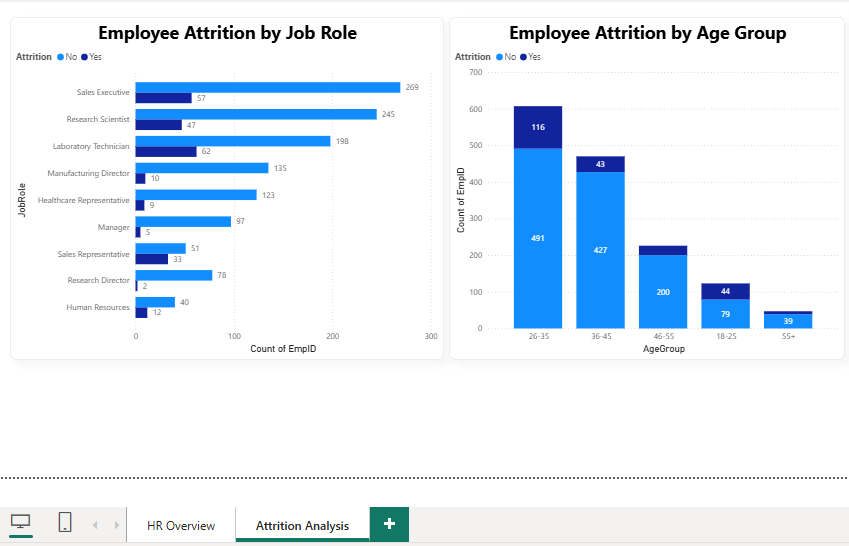

Layout of this report page (visuals, bound fields, positions):
{"tool":"powerbi","page":{"name":"Attrition Analysis","canvas":[1280,720],"ordinal":1},"visuals":[{"type":"clusteredBarChart","title":"Employee Attrition by Job Role","fields":{"Y":["CountNonNull(HR_Analytics_Cleaned.EmpID)"],"Series":["HR_Analytics_Cleaned.Attrition"],"Category":["HR_Analytics_Cleaned.JobRole"]},"box":[16.4,27.3,652.7,516.4],"z":0},{"type":"columnChart","title":"Employee Attrition by Age Group","fields":{"Y":["CountNonNull(HR_Analytics_Cleaned.EmpID)"],"Series":["HR_Analytics_Cleaned.Attrition"],"Category":["HR_Analytics_Cleaned.AgeGroup"]},"box":[678.2,27.3,596.4,516.4],"z":5}]}

Visuals, with their boxes on the page's 1280x720 design canvas (x1, y1, x2, y2). These are canvas units, not pixel positions in the 849x546 screenshot, which may show the page scaled, cropped or inside an application window:
"Employee Attrition by Job Role" clusteredBarChart: bbox=[16, 27, 669, 544]
"Employee Attrition by Age Group" columnChart: bbox=[678, 27, 1275, 544]
